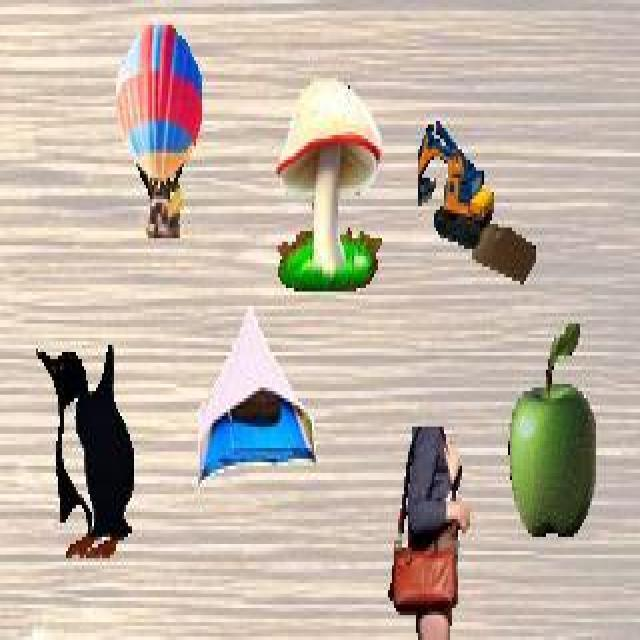Other Objects: (276, 76, 383, 292), (506, 322, 596, 542), (115, 22, 201, 240), (387, 424, 472, 640)
